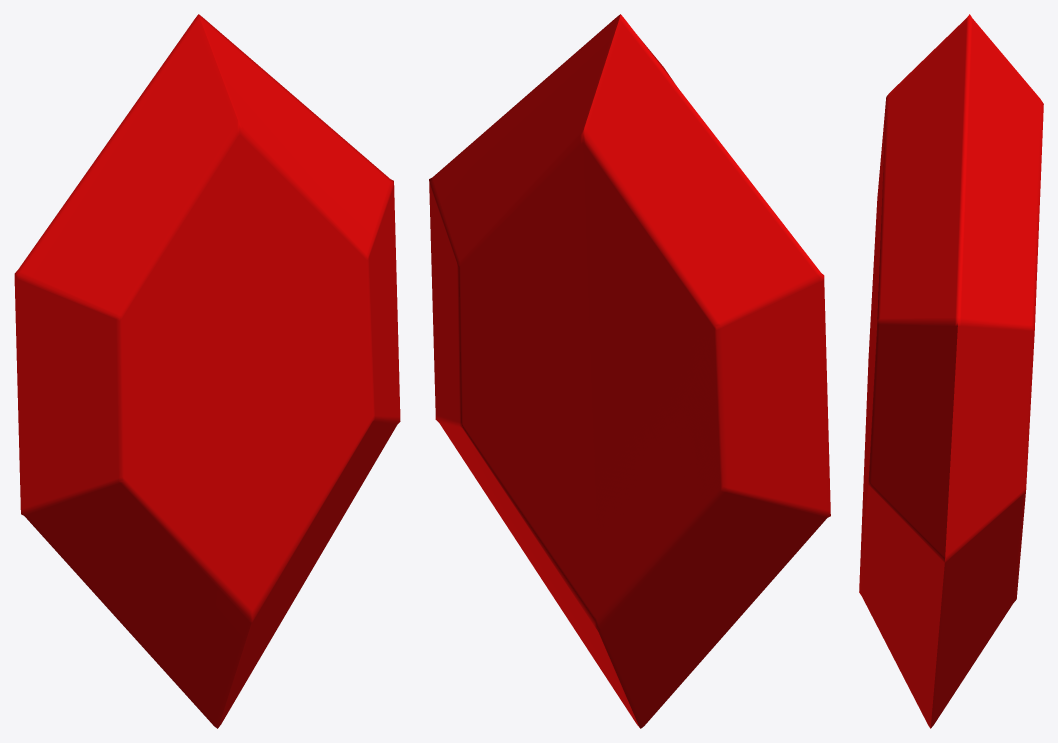
The model's file is rubygem_noblacklines.fbx.
3 views of the same model, side by side, from view 1: azimuth 30°, elevation 25°; view 2: azimuth 150°, elevation 25°; view 3: azimuth 270°, elevation 25° (orthographic). The views are drawn at different scales.
Visible parts, largest first — view 1: ruby4; view 2: ruby4; view 3: ruby4.
Part boxes in pixels (x1=…): ruby4: x1=14, y1=14, x2=400, y2=728; ruby4: x1=429, y1=14, x2=830, y2=728; ruby4: x1=859, y1=14, x2=1043, y2=728.
Size of the model in its own units: 6.82 by 12.04 by 2.82.
